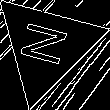N_E: (17, 20, 76, 73)
